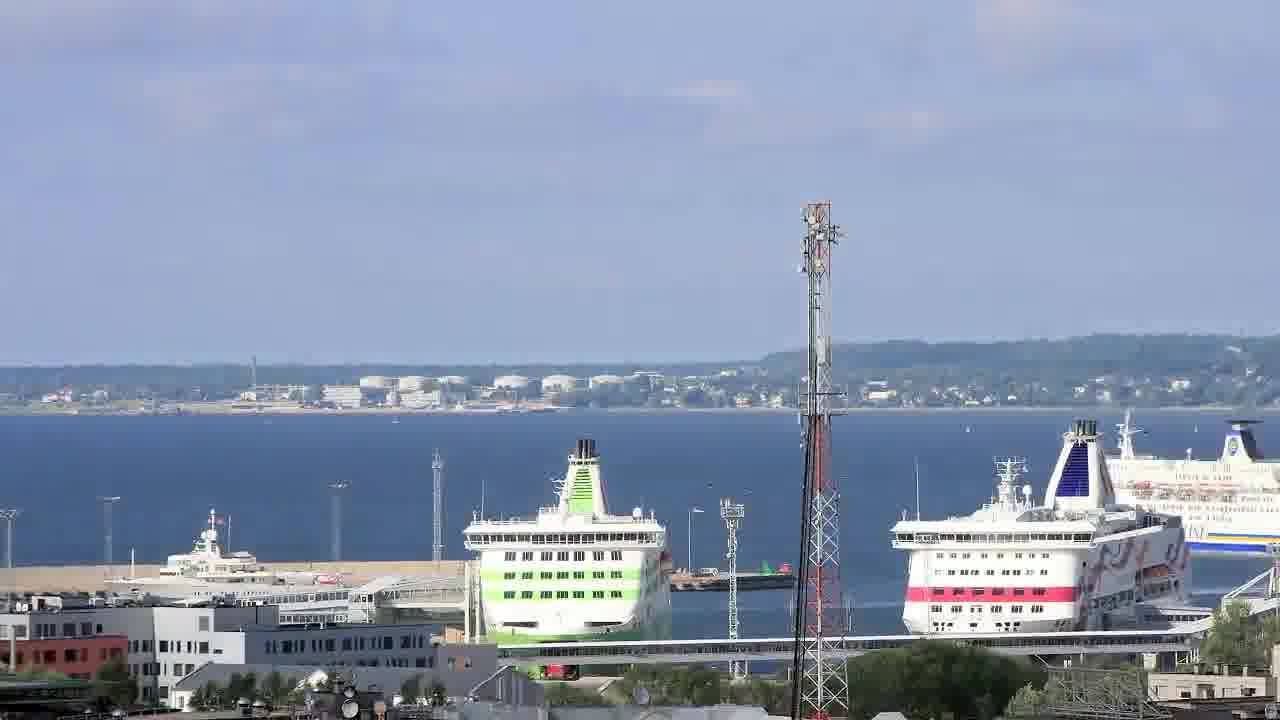type-3: (868, 415, 1225, 638), (436, 434, 694, 670), (1109, 389, 1279, 571), (86, 503, 347, 611)
